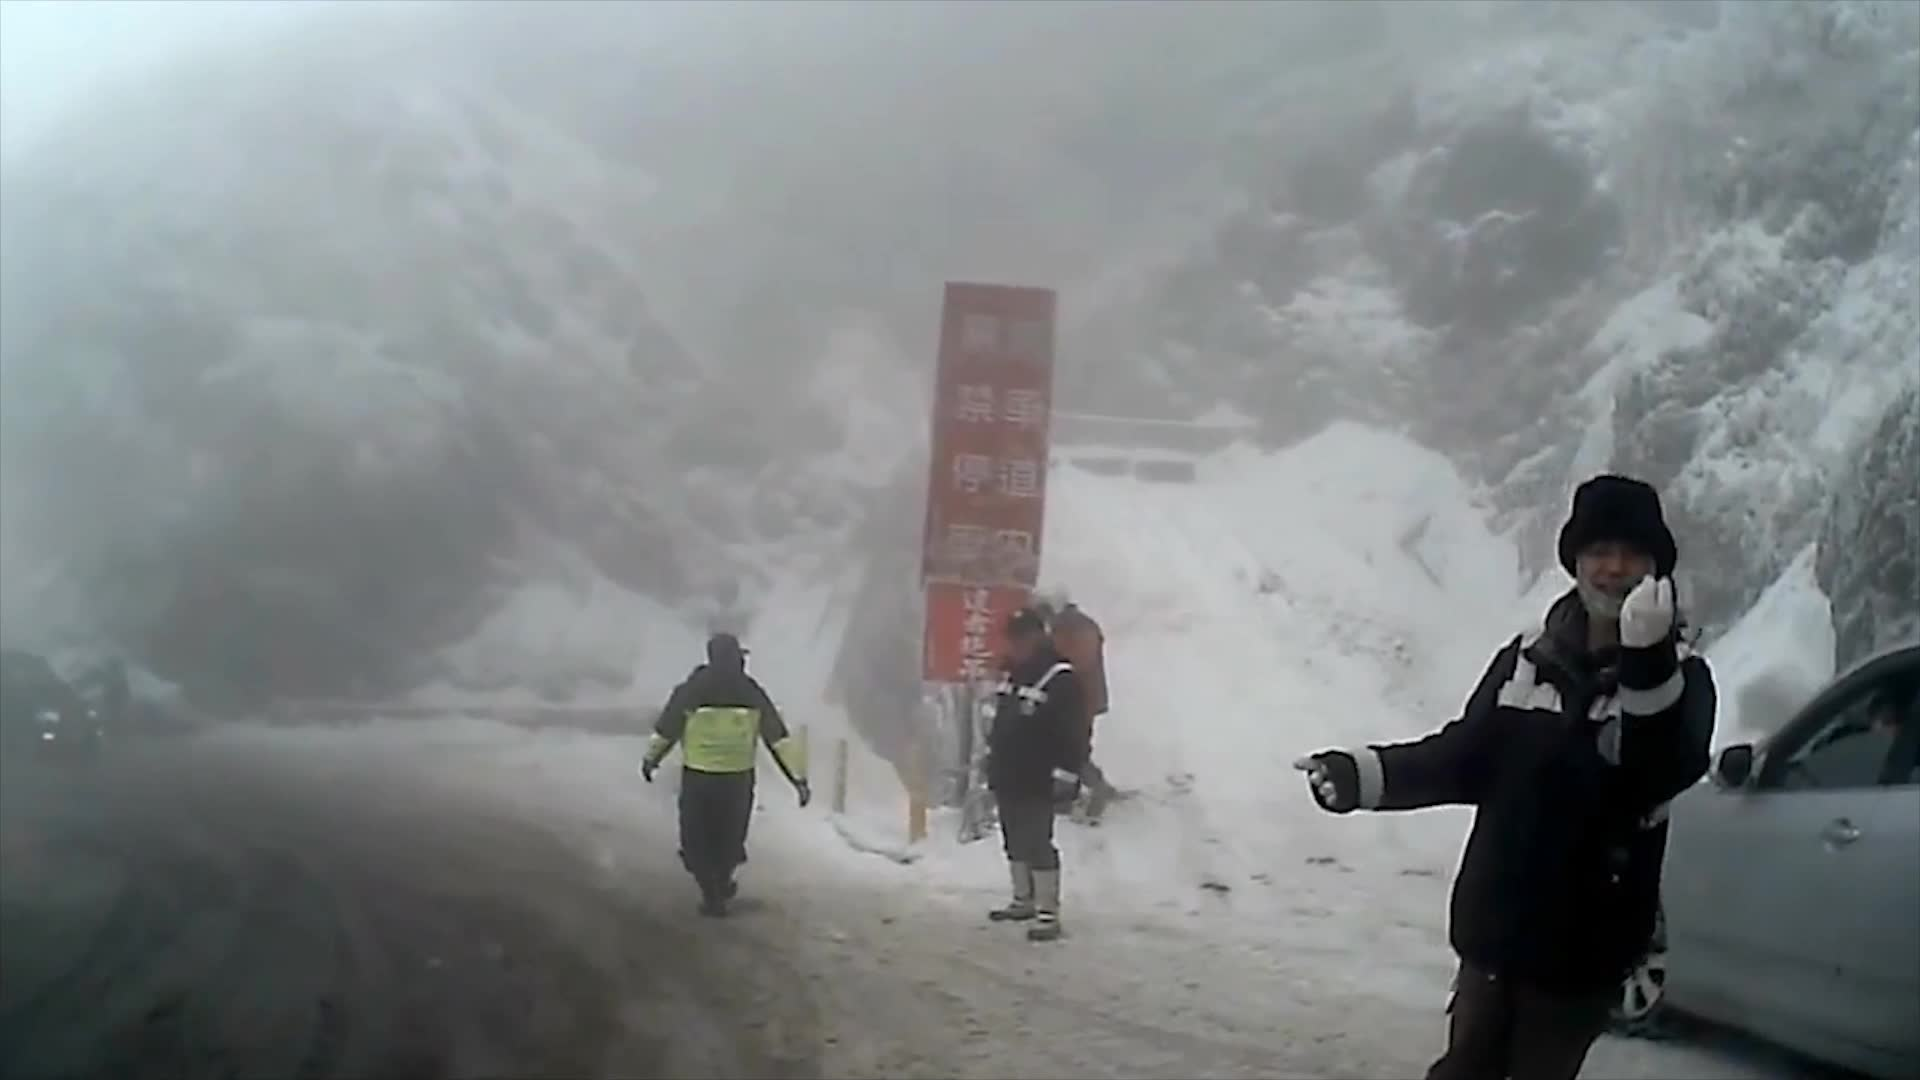pedestrian: (1299, 473, 1718, 1078), (648, 635, 802, 909), (993, 605, 1100, 937), (1033, 575, 1128, 816)
vehicle: (1539, 640, 1919, 1079)
